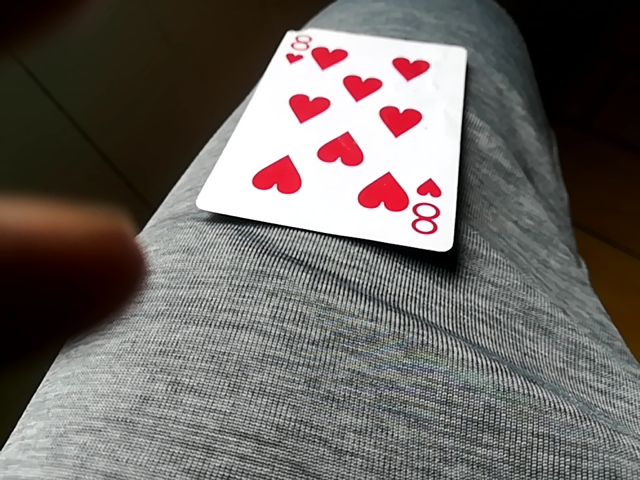hx 8: (192, 28, 471, 253)
